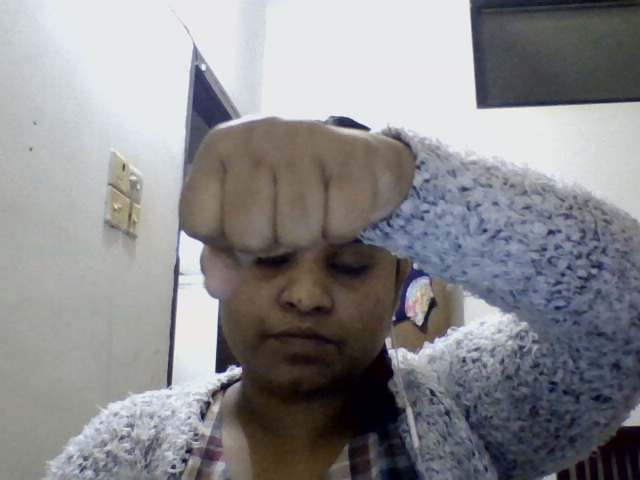Yes: (165, 93, 458, 266)
